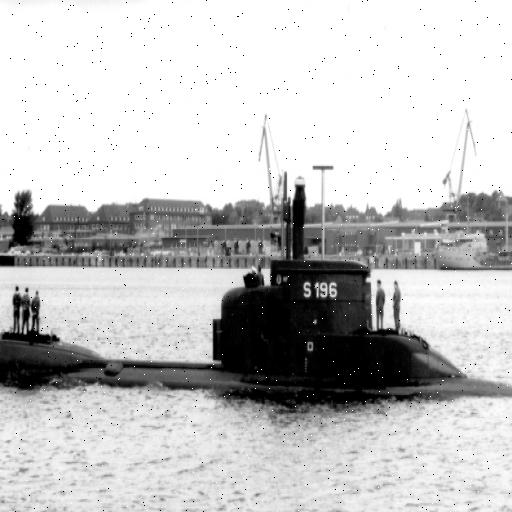submarine: (1, 166, 512, 399)
